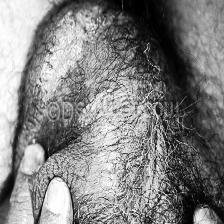Non-Cancerous Skin Condition: (118, 117, 162, 213), (18, 81, 46, 151)
